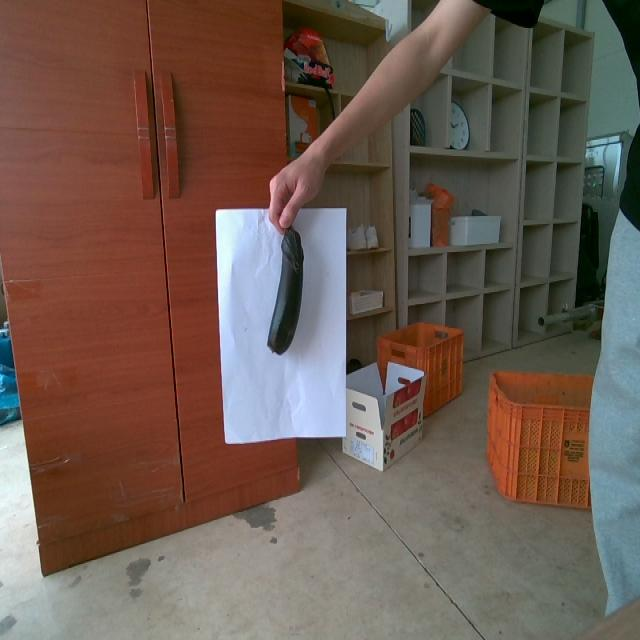Egg plant: (268, 227, 303, 353)
